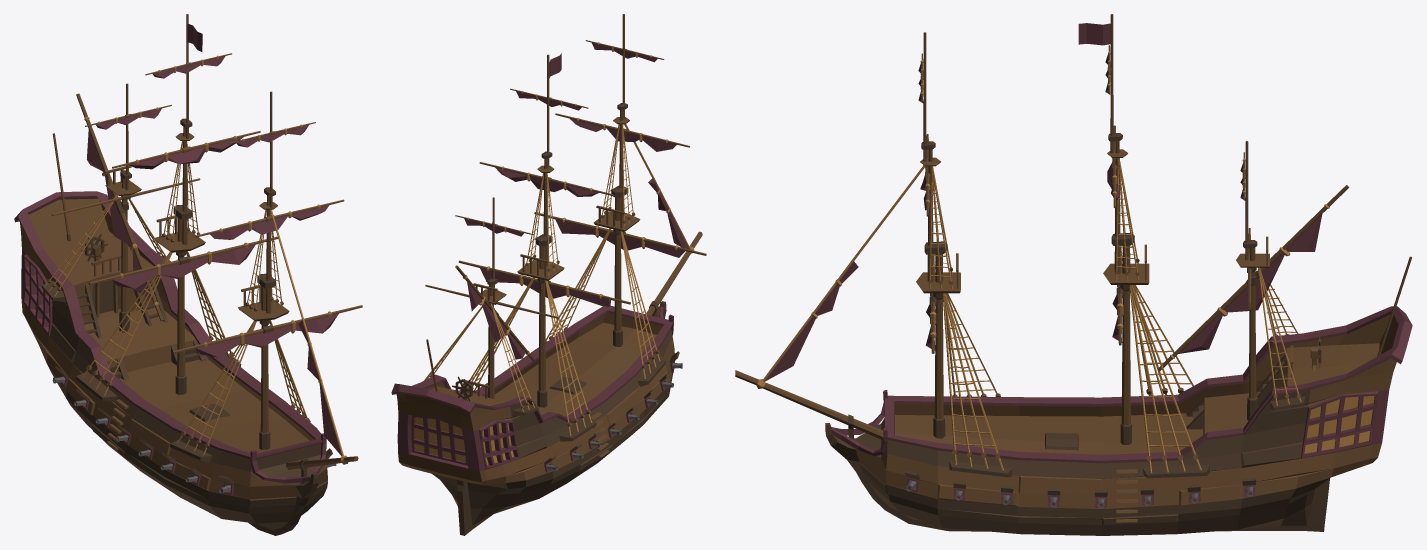
The model's file is ship-pirate.fbx.
The picture shows the model from 3 angles, left to right: view 1: azimuth 30°, elevation 25°; view 2: azimuth 150°, elevation 25°; view 3: azimuth 270°, elevation 25°; orthographic projection. The views are drawn at different scales.
Visible parts, largest first — view 1: ship-pirate; view 2: ship-pirate; view 3: ship-pirate.
Boxes of the visible parts, <box> form: ship-pirate: <box>14,14,362,535</box>; ship-pirate: <box>391,14,706,535</box>; ship-pirate: <box>735,14,1412,535</box>.
Bounding box in the file's own units: 12.22 × 28.51 × 33.91.
